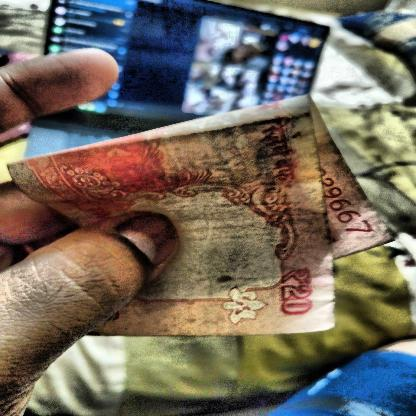Rs20: (274, 265, 317, 319)
